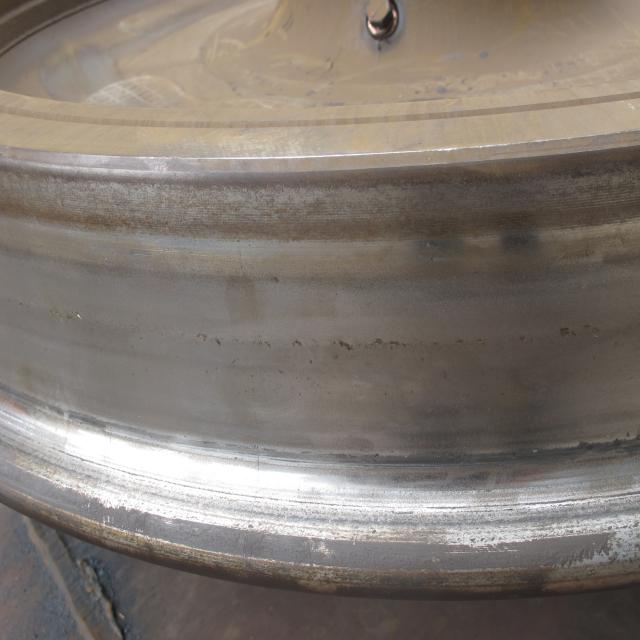Peeling: (371, 339, 406, 349), (51, 311, 82, 321), (198, 334, 223, 346), (559, 328, 578, 341), (586, 325, 601, 339), (457, 339, 486, 345), (339, 340, 353, 352), (293, 341, 303, 348), (522, 336, 530, 342), (20, 302, 23, 308)
